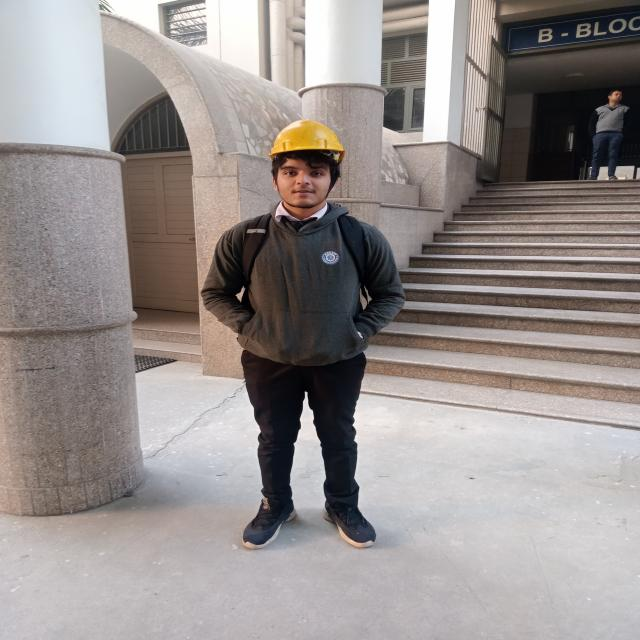no jacket: (200, 117, 401, 546)
unsafe: (588, 89, 632, 181)
